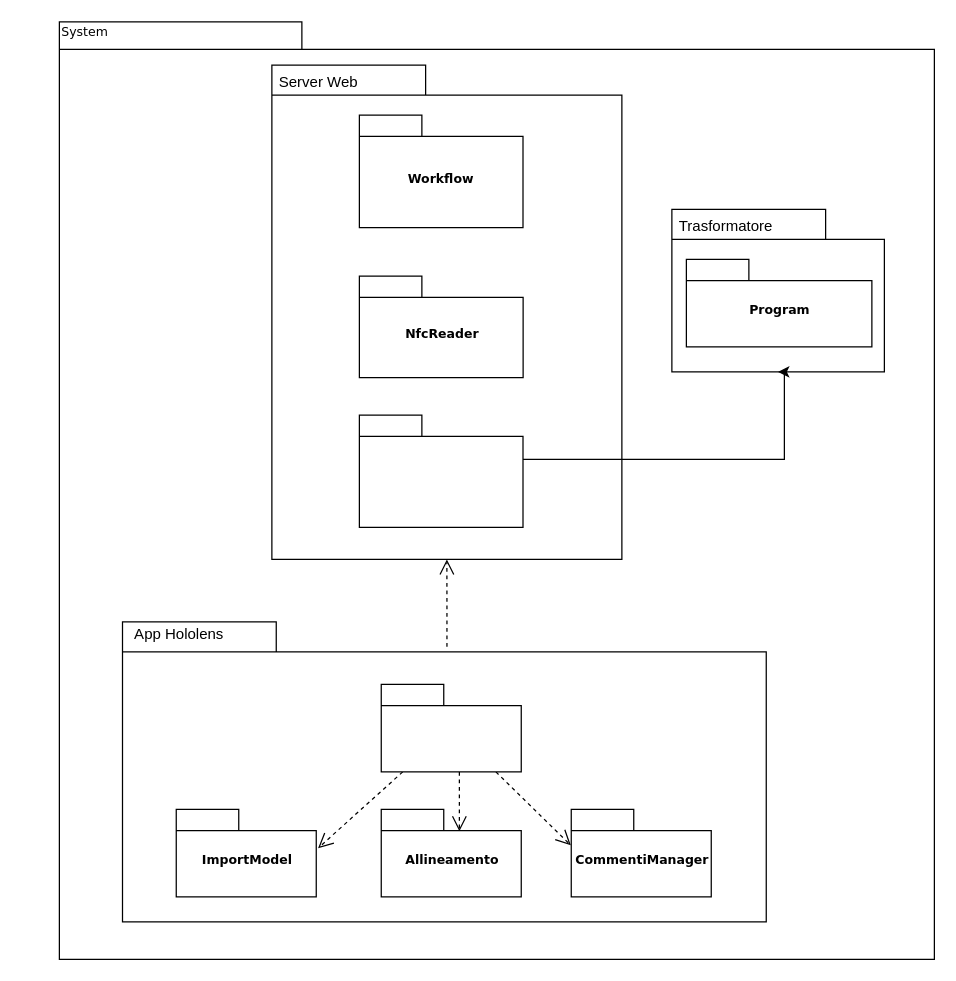
Image size: 956x981. Some labels were removed from this diagram. Here are the shapes that lost their labels. From the top down, the centre of each, then its label:
(440,470): IfcToGltf
(450,727): GameManager
